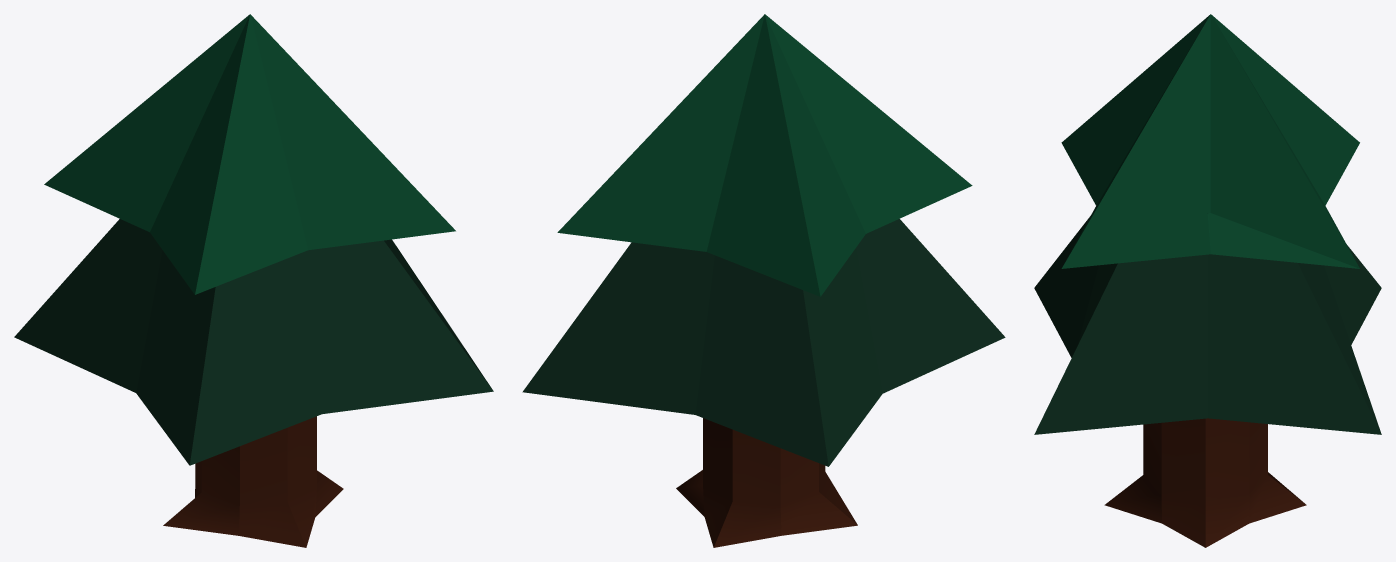
The model's file is F.arvorezinha.fbx.
3 renders of one model, left to right at view 1: azimuth 30°, elevation 25°; view 2: azimuth 150°, elevation 25°; view 3: azimuth 270°, elevation 25°, orthographic.
Visible parts, largest first — view 1: pCylinder12; view 2: pCylinder12; view 3: pCylinder12.
Part boxes in pixels (x1,y1,x2,y2): pCylinder12: (14, 14, 493, 547); pCylinder12: (522, 14, 1005, 547); pCylinder12: (1034, 14, 1381, 547).
Size of the model in its own units: 1.49 by 2.32 by 1.49.
